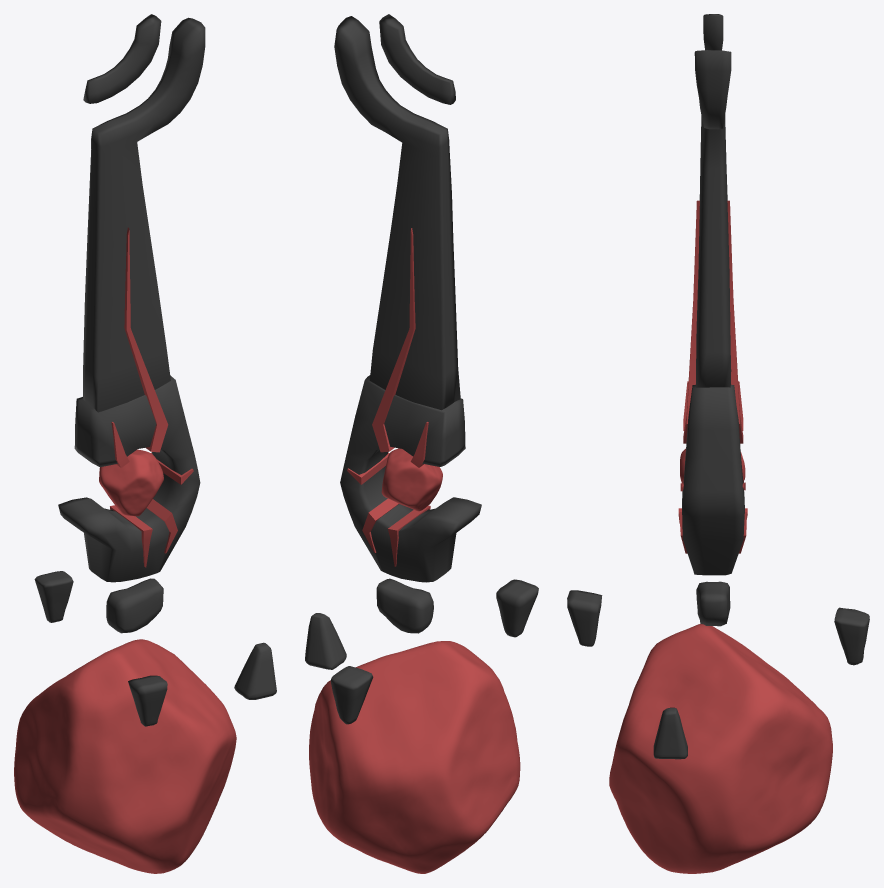
Rendered from Lvl3_BallTower.fbx.
The picture shows the model from 3 angles, left to right: view 1: azimuth 30°, elevation 25°; view 2: azimuth 150°, elevation 25°; view 3: azimuth 270°, elevation 25°; orthographic projection. The views are drawn at different scales.
Parts seen in each view (by area): view 1: BallBig, TowerTop, TowerBottom, BallSmall, TowerFloat, RockFloat04, LightPartTall, LightPartsSmall, RockFloat03, RockFloat02, RockFloat01; view 2: BallBig, TowerTop, TowerBottom, TowerFloat, BallSmall, RockFloat04, LightPartsSmall, LightPartTall, RockFloat03, RockFloat02, RockFloat01; view 3: BallBig, TowerTop, TowerBottom, LightPartTall, RockFloat02, RockFloat01, RockFloat04, RockFloat03, TowerFloat, LightPartsSmall.
Boxes of the visible parts, x1,y1,x2,y2 form: BallBig: (14,639,236,873); TowerTop: (82,17,205,412); TowerBottom: (58,375,200,582); BallSmall: (99,449,163,516); TowerFloat: (83,14,161,103); RockFloat04: (106,578,163,633); LightPartTall: (124,227,168,452); LightPartsSmall: (110,422,193,567); RockFloat03: (234,642,276,699); RockFloat02: (128,675,167,726); RockFloat01: (34,571,73,622); BallBig: (309,641,520,873); TowerTop: (334,16,460,410); TowerBottom: (340,375,481,582); TowerFloat: (379,14,455,104); BallSmall: (381,448,442,511); RockFloat04: (376,578,433,633); LightPartsSmall: (347,422,430,566); LightPartTall: (372,228,415,452); RockFloat03: (305,613,346,669); RockFloat02: (496,579,538,637); RockFloat01: (330,666,373,724); BallBig: (609,623,832,873); TowerTop: (694,50,731,387); TowerBottom: (682,384,744,575); LightPartTall: (683,200,743,443); RockFloat02: (567,590,602,646); RockFloat01: (834,607,869,665); RockFloat04: (696,581,730,626); RockFloat03: (653,707,687,759); TowerFloat: (703,14,723,50); LightPartsSmall: (678,381,747,553).
Size of the model in its own units: 233 by 888 by 282.
